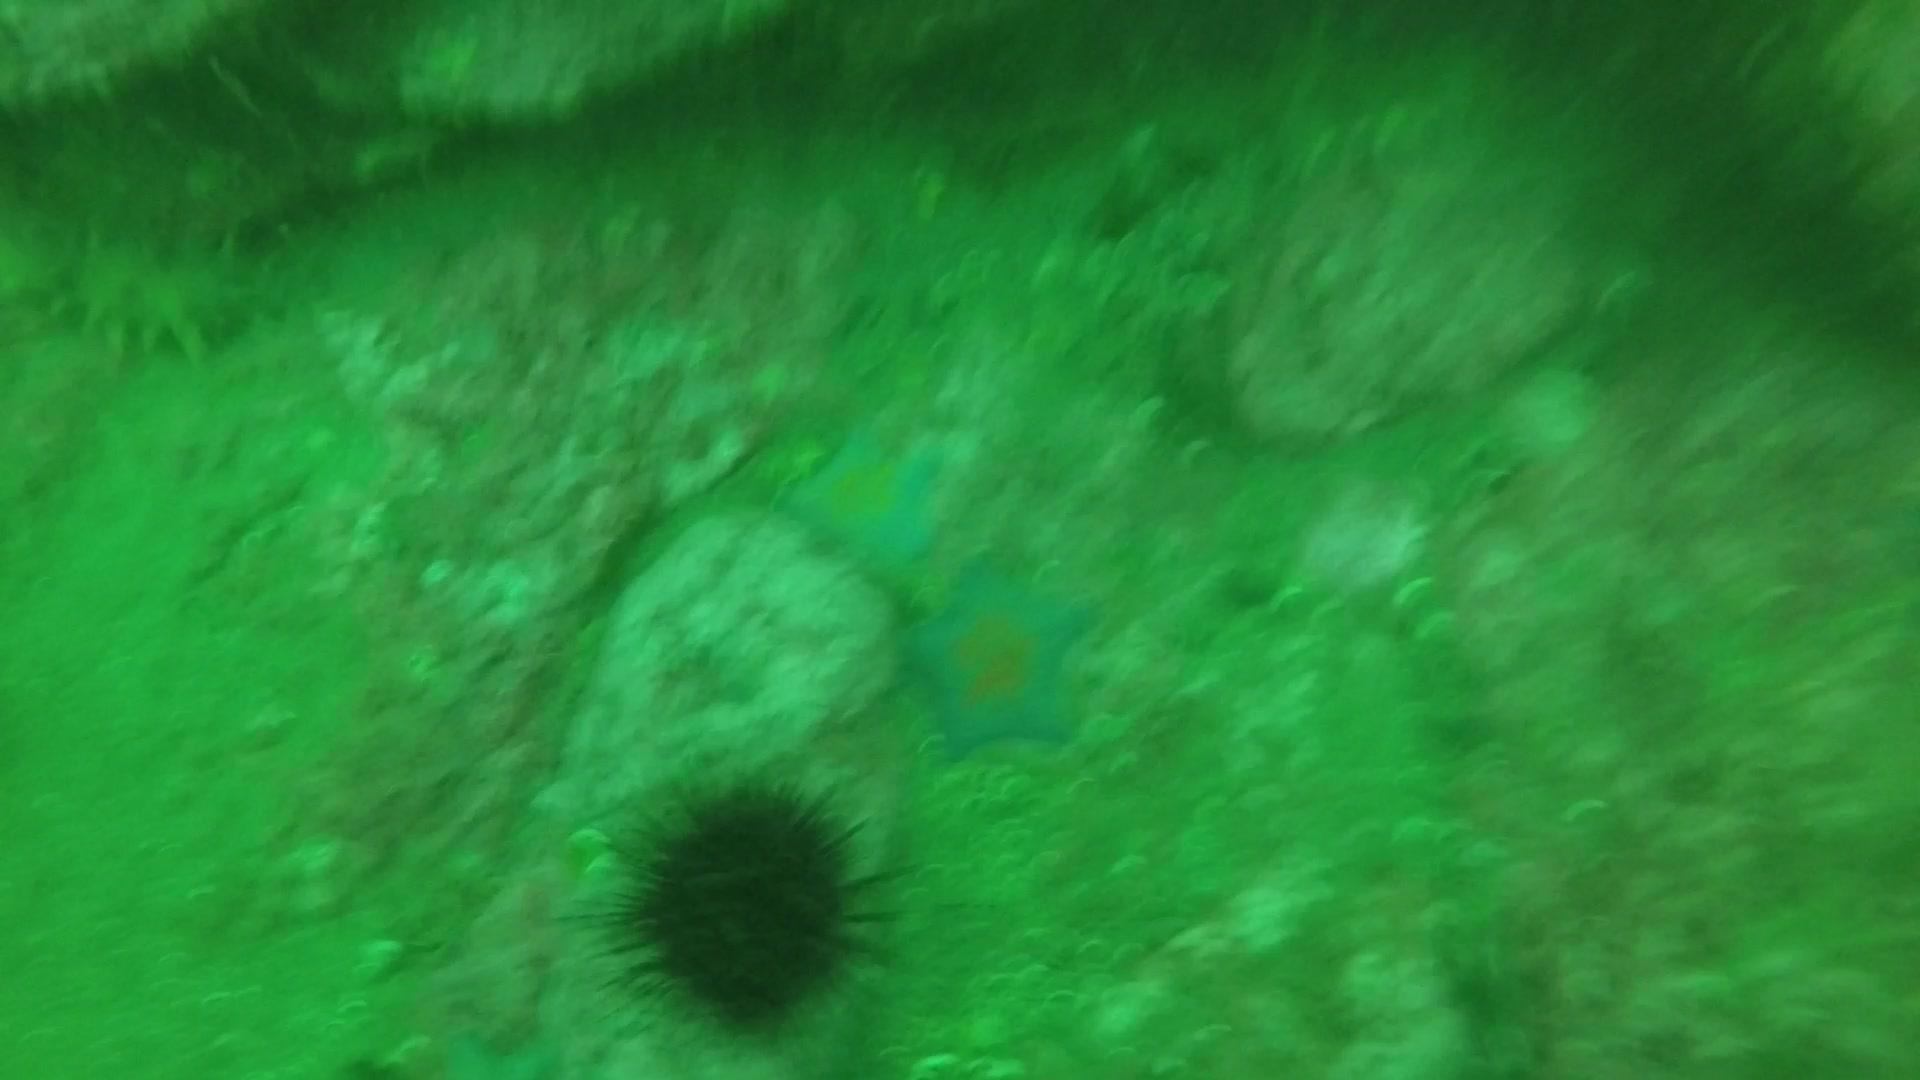urchin: (603, 769, 865, 1039)
